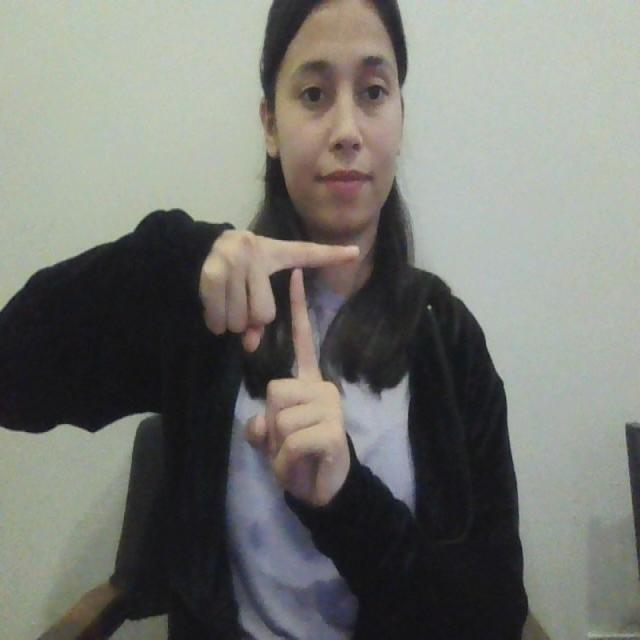Tesekkurler: (236, 217, 349, 398)
